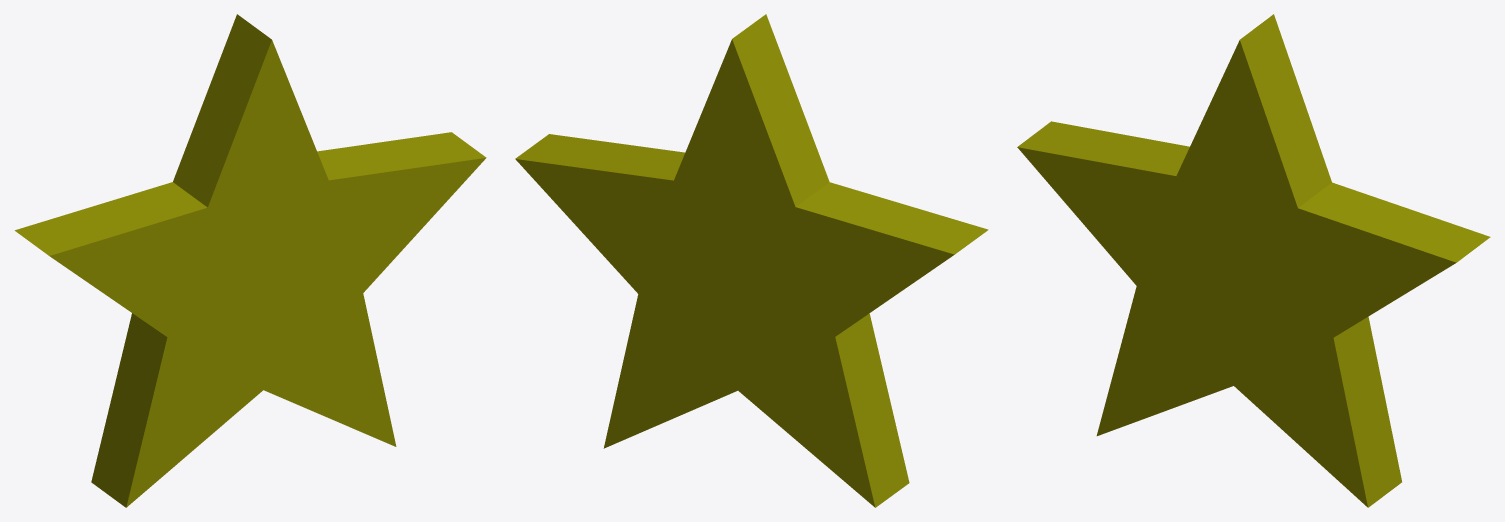
File: star.FBX
The picture shows the model from 3 angles, left to right: view 1: azimuth 30°, elevation 25°; view 2: azimuth 150°, elevation 25°; view 3: azimuth 330°, elevation 25°; orthographic projection.
Visible parts, largest first — view 1: Star001; view 2: Star001; view 3: Star001.
Part boxes in pixels (x1,y1,x2,y2): Star001: [14, 14, 486, 507]; Star001: [515, 14, 988, 507]; Star001: [1017, 14, 1490, 507].
Bounding box in the file's own units: 2.01 × 1.93 × 0.2929.
